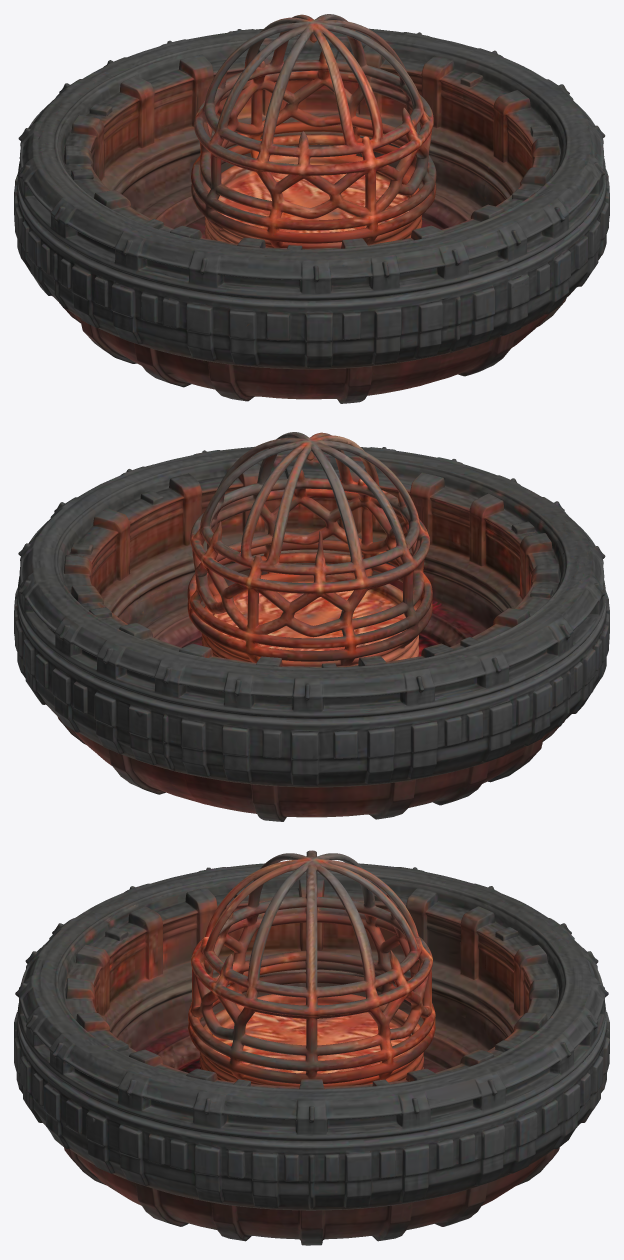
The model's file is flamecore.glb.
3 views of the same model, one above another, from view 1: azimuth 30°, elevation 25°; view 2: azimuth 150°, elevation 25°; view 3: azimuth 270°, elevation 25° (orthographic).
Visible parts, largest first — view 1: material; view 2: material; view 3: material.
Boxes of the visible parts, x1,y1,x2,y2 form: material: (14, 14, 609, 403); material: (14, 432, 609, 821); material: (14, 850, 609, 1245).
Bounding box in the file's own units: 1.17 × 0.6361 × 1.16.
1 material, 1 textured.
